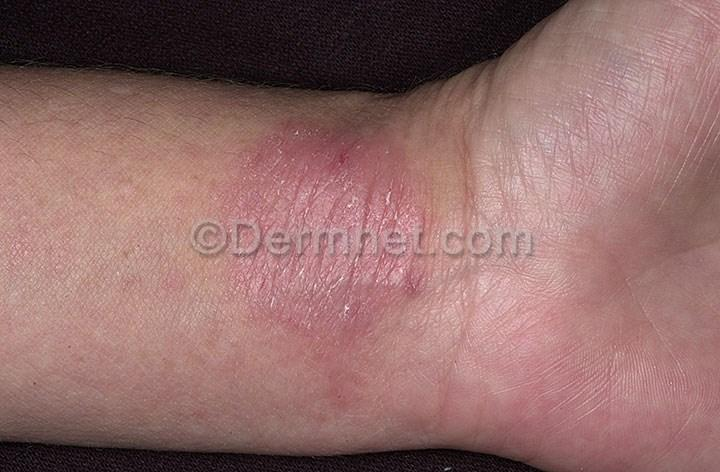Eczema: (213, 98, 443, 226), (224, 256, 447, 344)
